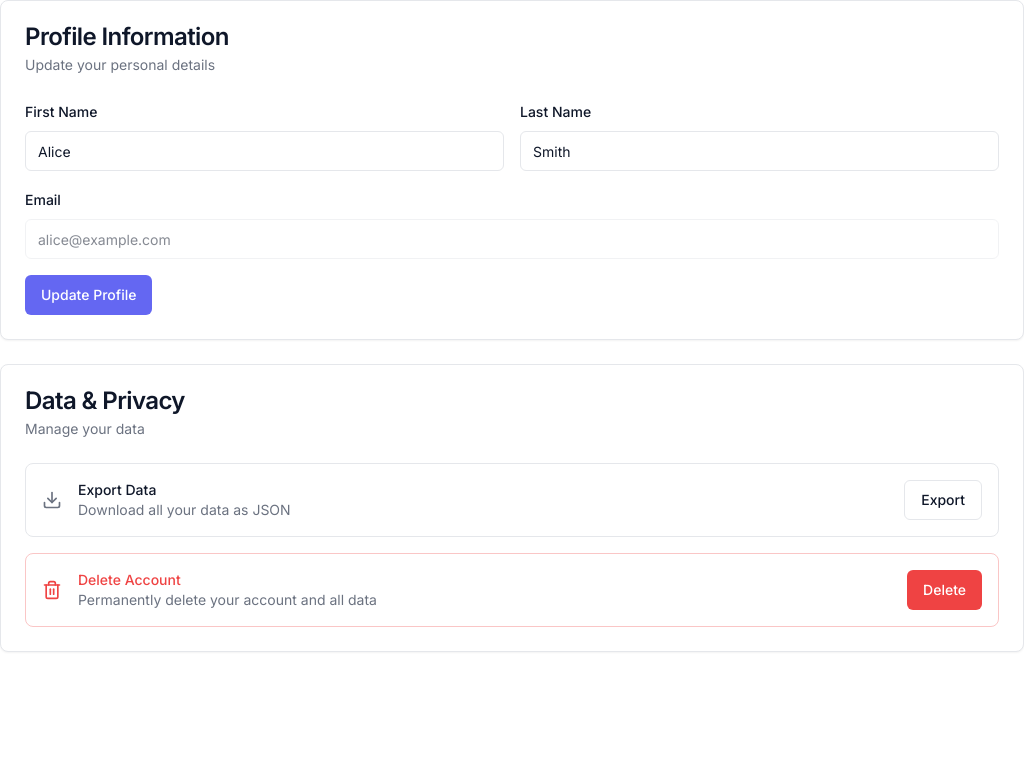
AccountTab - delete account › should enable the "Delete Account" action when the correct full name is typed
Click the button "Delete": x=945, y=590 [907, 570, 982, 610]
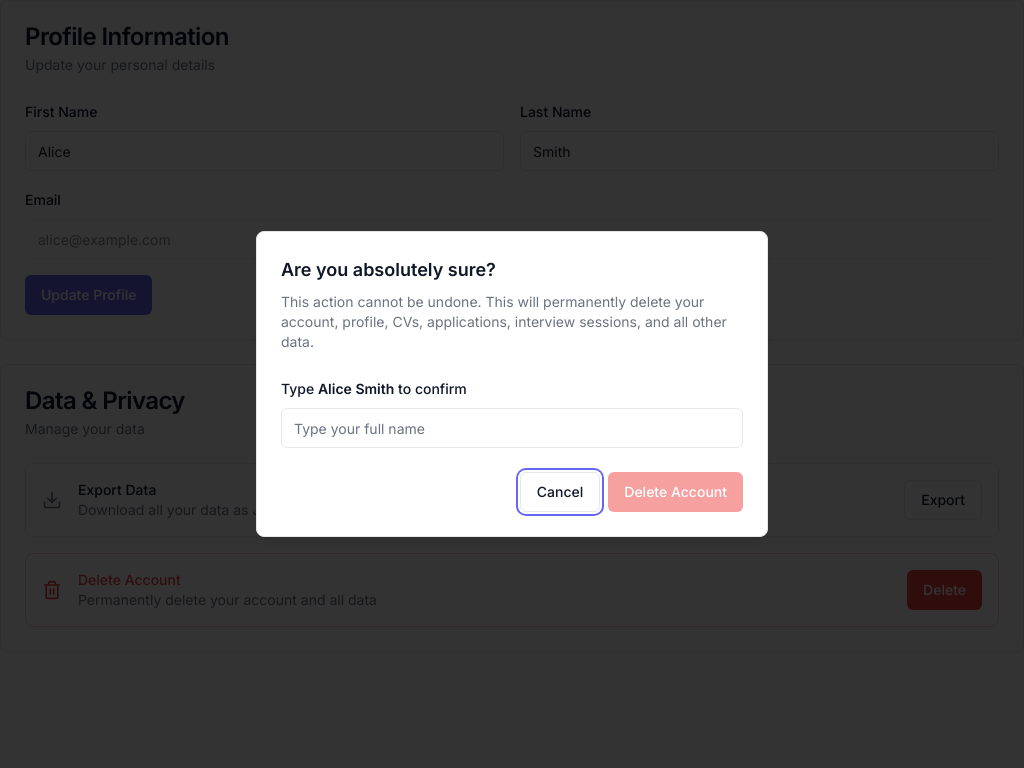
In the field labelled "Type Alice Smith to confirm": x=512, y=428 [281, 408, 743, 448], type "Alice Smith"
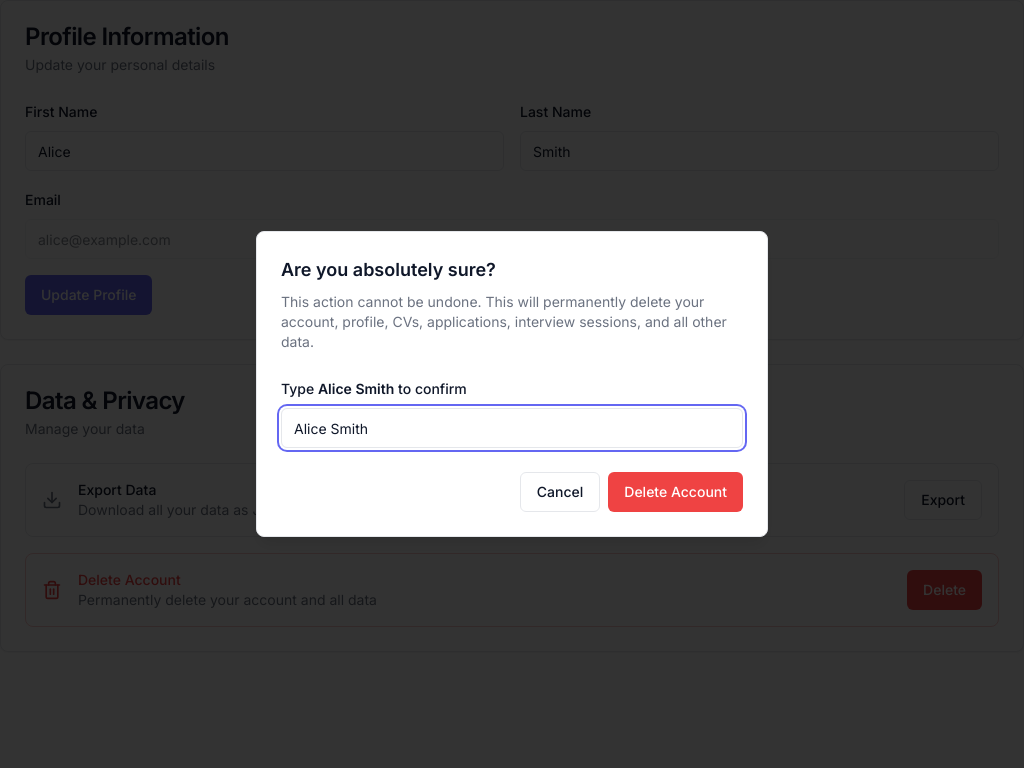
Expected: the button "Delete Account" is enabled, [608, 472, 743, 512]
